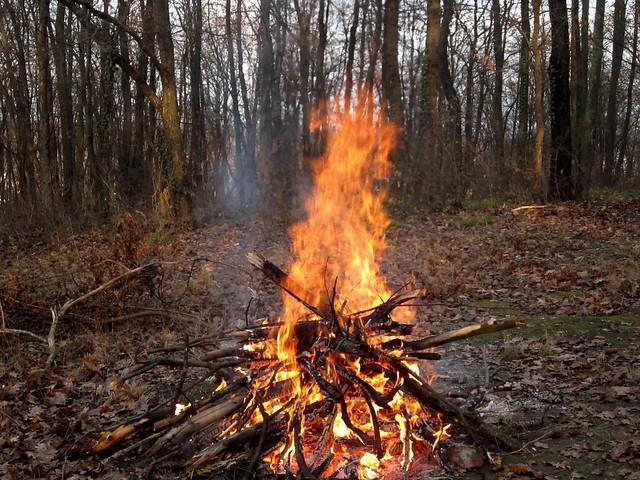fire: (212, 77, 444, 480)
